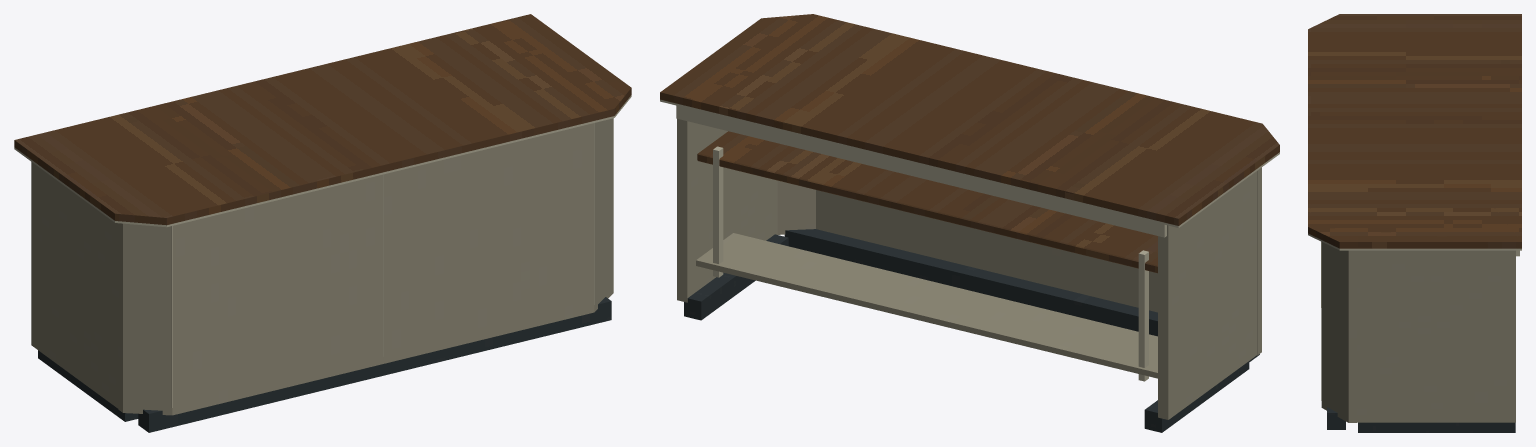
File: office_reception_desk.glb
The picture shows the model from 3 angles, left to right: view 1: azimuth 30°, elevation 25°; view 2: azimuth 150°, elevation 25°; view 3: azimuth 270°, elevation 25°; orthographic projection. The views are drawn at different scales.
Visible parts, largest first — view 1: core_office_reception_desk; view 2: core_office_reception_desk; view 3: core_office_reception_desk.
Boxes of the visible parts, bbox=[...] form: core_office_reception_desk: bbox=[14, 14, 631, 432]; core_office_reception_desk: bbox=[660, 14, 1279, 432]; core_office_reception_desk: bbox=[1308, 14, 1521, 432].
Size of the model in its own units: 2.4 by 0.98 by 0.95.
4 materials, 4 textured.
